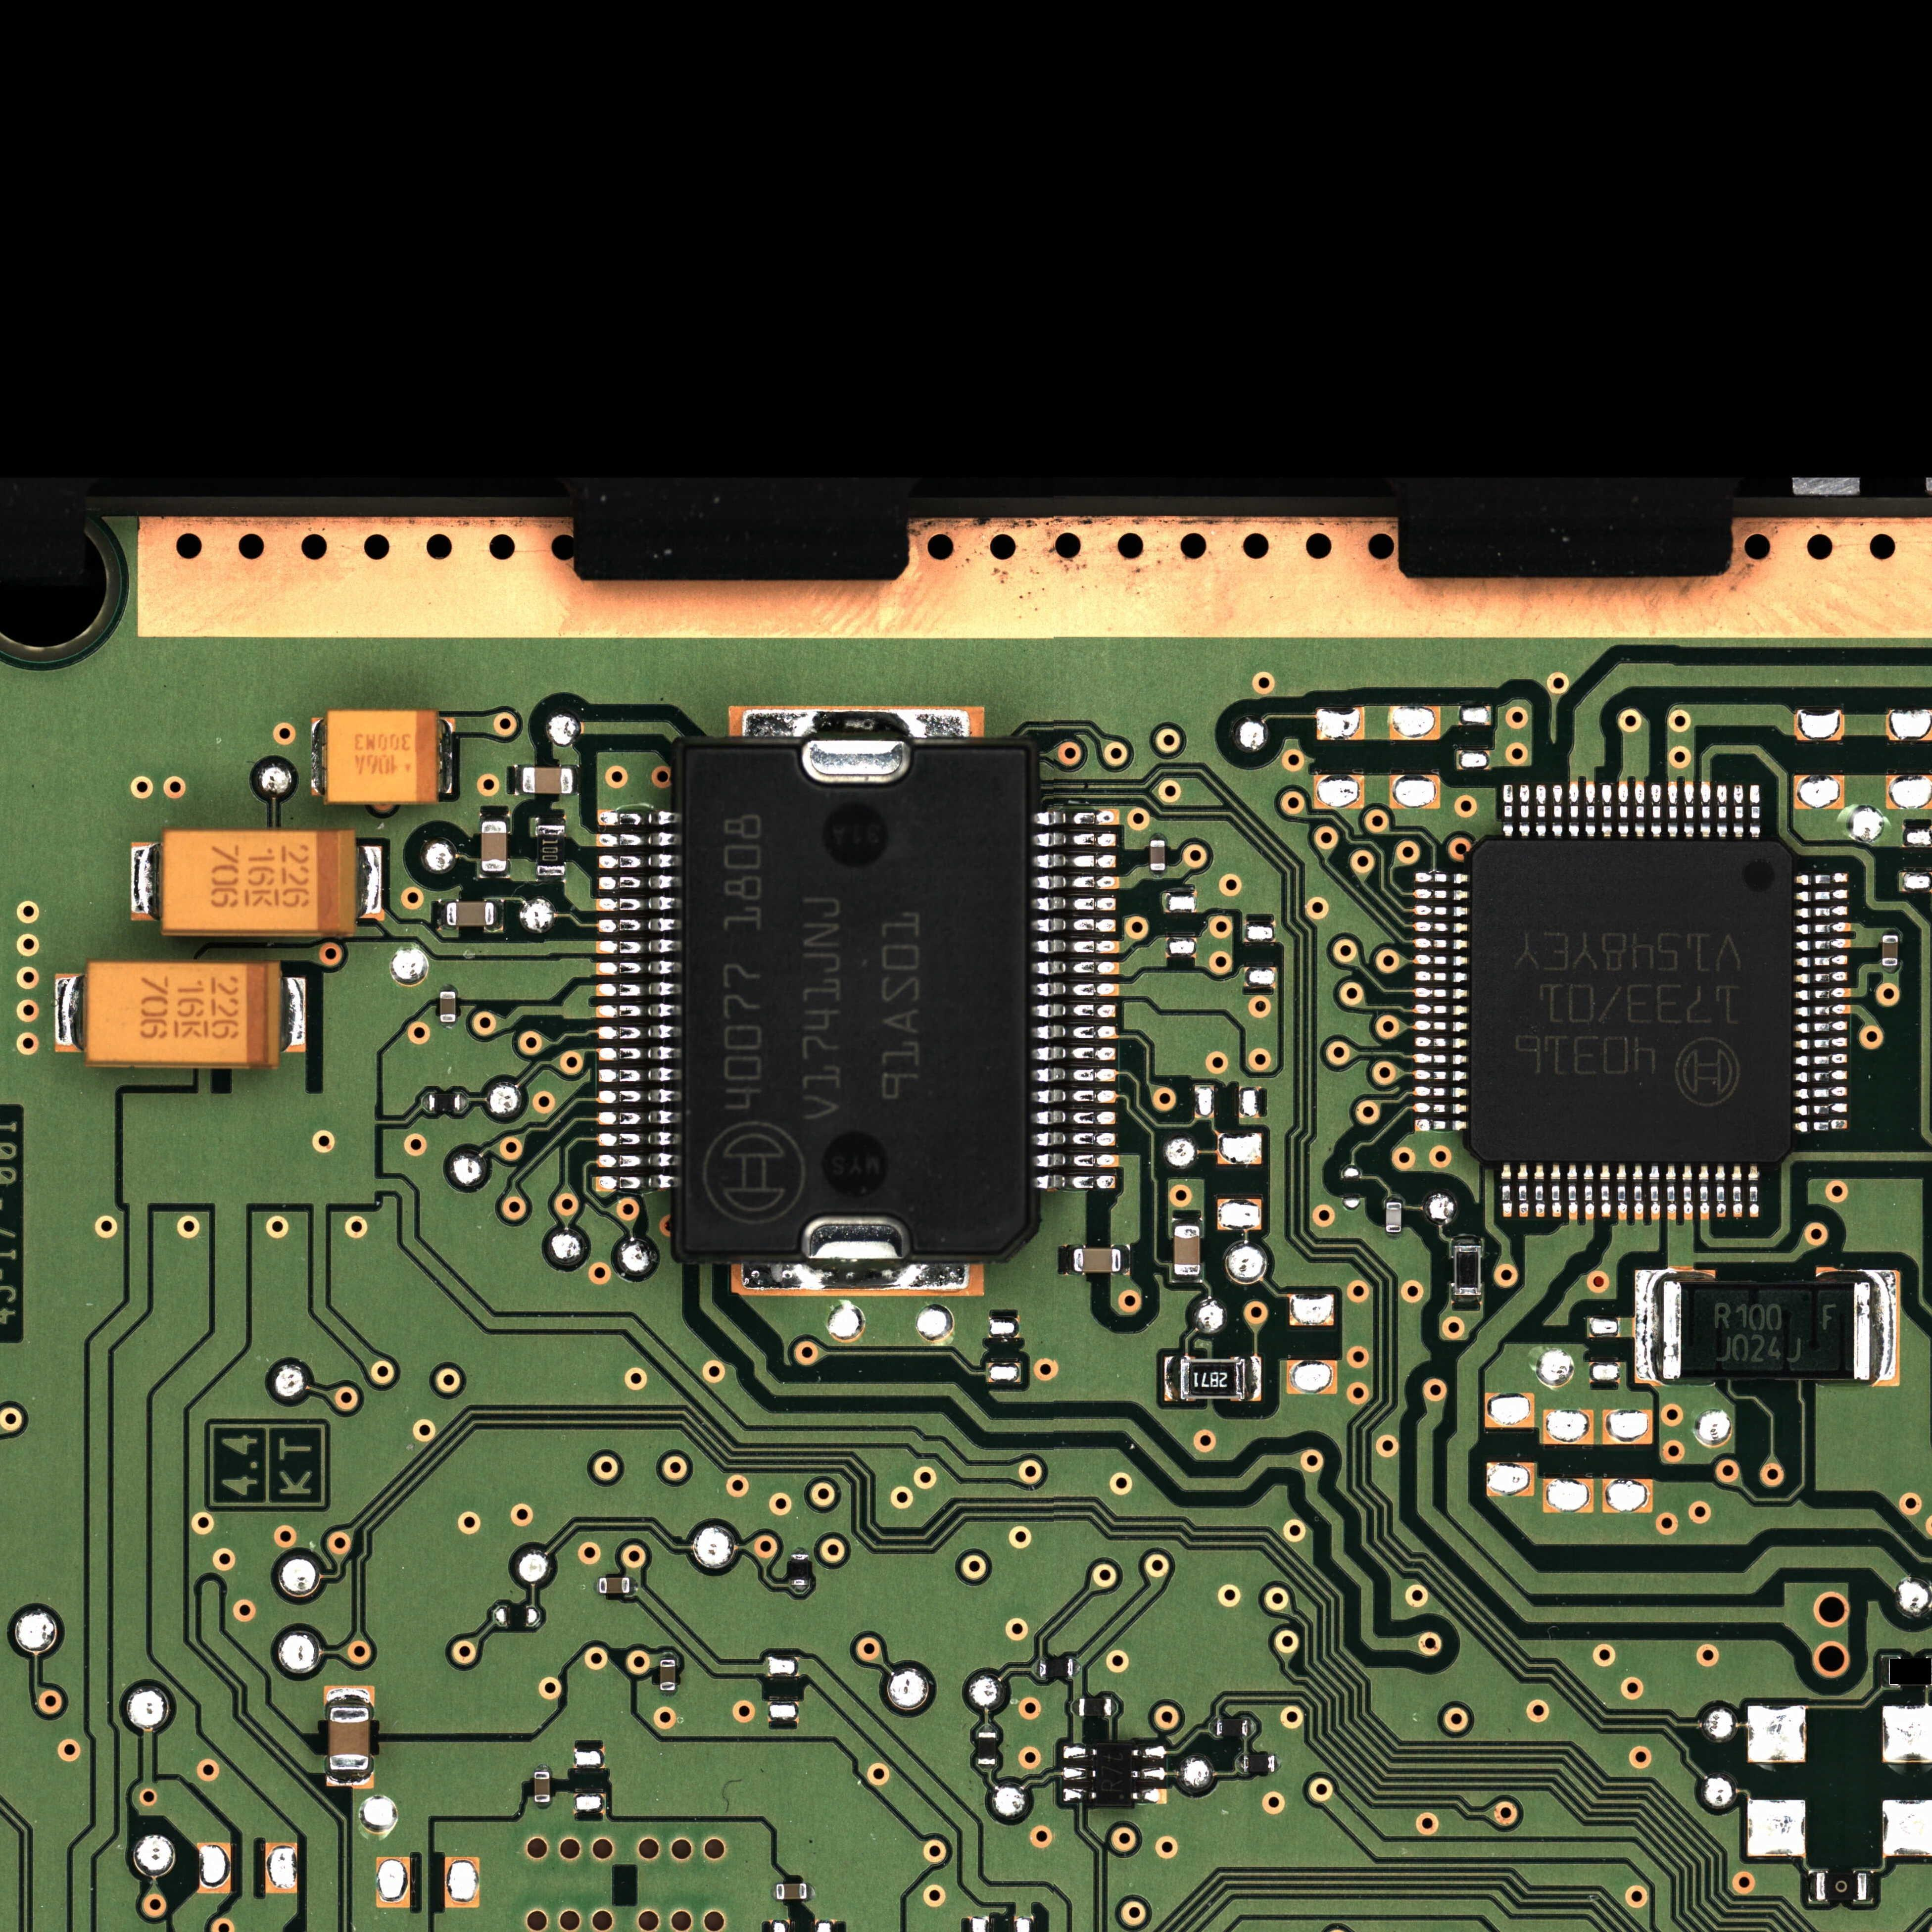Package: (683, 746, 1026, 1252), (1471, 839, 1791, 1163), (1662, 1279, 1868, 1378), (87, 961, 280, 1065), (162, 829, 357, 932), (327, 710, 437, 802), (1180, 1359, 1245, 1400), (329, 1707, 369, 1771), (1097, 1744, 1131, 1804), (1816, 1873, 1866, 1901), (537, 825, 565, 875), (522, 768, 573, 794), (1454, 1246, 1480, 1295), (1174, 1226, 1200, 1275), (481, 821, 506, 871), (447, 902, 494, 926), (1074, 1248, 1121, 1272), (977, 1732, 996, 1764), (1040, 1659, 1073, 1677), (1079, 1698, 1111, 1716), (429, 1094, 460, 1111), (1243, 1755, 1274, 1773), (791, 1554, 808, 1586), (1217, 1720, 1248, 1737), (440, 992, 456, 1022), (599, 1578, 629, 1594), (776, 1884, 807, 1899), (1883, 935, 1898, 966), (660, 1660, 676, 1690), (534, 1772, 550, 1802), (1150, 840, 1165, 870), (1386, 1203, 1401, 1232)
Solder: (739, 1261, 971, 1291), (741, 710, 970, 737), (1871, 1270, 1900, 1387), (1635, 1269, 1663, 1384), (131, 843, 162, 921), (54, 974, 86, 1053), (281, 976, 306, 1053), (358, 846, 382, 918), (1033, 809, 1118, 826), (1032, 896, 1116, 913), (596, 1174, 679, 1191), (1032, 960, 1120, 976), (596, 939, 680, 955), (596, 896, 680, 913), (597, 1067, 681, 1083), (1032, 939, 1118, 955), (1032, 874, 1118, 890), (1031, 1003, 1117, 1018), (597, 810, 680, 826), (595, 982, 681, 998), (1032, 1153, 1117, 1168), (595, 961, 680, 976), (1032, 1174, 1117, 1190), (1031, 1046, 1116, 1062), (1032, 1024, 1117, 1040), (1031, 1067, 1116, 1083), (1032, 853, 1117, 869), (1032, 1088, 1116, 1104), (1031, 1110, 1116, 1126), (596, 918, 680, 933), (596, 1153, 680, 1169), (597, 1024, 681, 1040), (1032, 982, 1118, 997), (597, 1110, 680, 1126), (598, 854, 680, 869), (597, 832, 679, 848), (596, 1003, 681, 1018), (1032, 918, 1117, 933), (597, 1089, 681, 1104), (597, 1046, 681, 1062), (598, 875, 681, 890), (1033, 1131, 1115, 1147), (1033, 832, 1115, 847), (598, 1132, 679, 1147), (323, 1685, 375, 1707), (311, 718, 326, 795), (438, 718, 453, 794), (326, 1771, 375, 1789), (1245, 1356, 1261, 1401), (1164, 1356, 1180, 1401), (1794, 1004, 1851, 1016), (1794, 988, 1851, 1000), (1415, 1119, 1467, 1132), (1413, 954, 1469, 966), (1413, 888, 1469, 900), (1700, 781, 1711, 839), (1413, 938, 1469, 950), (1414, 1004, 1469, 1015), (1414, 1020, 1469, 1032), (1794, 922, 1851, 934), (1414, 1086, 1468, 1098), (1794, 1119, 1848, 1131), (1413, 905, 1469, 917), (1794, 939, 1850, 950), (1414, 1103, 1468, 1114), (1794, 873, 1848, 885), (1794, 1070, 1847, 1082), (1794, 1087, 1848, 1099), (1794, 1103, 1848, 1115), (1794, 1021, 1847, 1033), (1413, 921, 1469, 933), (1684, 781, 1694, 839), (1414, 987, 1469, 999), (1793, 972, 1848, 983), (1414, 971, 1469, 982), (1413, 1053, 1468, 1064), (1667, 782, 1678, 839), (1635, 782, 1645, 839), (1618, 782, 1629, 839), (1794, 956, 1848, 967), (1682, 1163, 1693, 1220), (1585, 782, 1596, 839), (1666, 1164, 1677, 1220), (1649, 1164, 1660, 1220), (1633, 1164, 1643, 1220), (1616, 1163, 1627, 1220), (1414, 1069, 1468, 1081), (1794, 890, 1848, 901), (1794, 906, 1848, 918), (1502, 784, 1514, 838), (1717, 783, 1728, 839), (1651, 783, 1662, 839), (1568, 782, 1579, 838), (1699, 1163, 1710, 1219), (1584, 1163, 1594, 1219), (1567, 1163, 1578, 1219), (1415, 1037, 1468, 1048), (1794, 1054, 1847, 1065), (1601, 783, 1612, 839), (1550, 1163, 1561, 1218), (1794, 1038, 1847, 1049), (1414, 872, 1469, 883), (1733, 784, 1744, 839), (1715, 1163, 1726, 1218), (1600, 1163, 1611, 1218), (1534, 1163, 1545, 1218), (1749, 785, 1760, 839), (1552, 784, 1563, 838), (1519, 784, 1530, 838), (1732, 1164, 1742, 1218), (1748, 1164, 1759, 1218), (1518, 1163, 1529, 1217), (1132, 1788, 1167, 1804), (1536, 785, 1546, 838), (1501, 1163, 1512, 1217), (1063, 1788, 1097, 1802), (1063, 1745, 1097, 1759), (1131, 1746, 1166, 1759), (1131, 1767, 1165, 1780), (1063, 1767, 1096, 1780), (1879, 1656, 1889, 1689), (494, 899, 504, 931), (1171, 1275, 1203, 1284), (535, 816, 566, 825), (1121, 1245, 1130, 1274), (1451, 1237, 1483, 1245), (480, 813, 510, 821), (438, 900, 446, 929), (1451, 1296, 1483, 1304), (514, 765, 522, 795), (1172, 1217, 1202, 1225), (1065, 1245, 1073, 1275), (479, 871, 510, 879), (1809, 1871, 1816, 1902), (1866, 1872, 1874, 1902), (573, 765, 580, 795), (536, 875, 566, 882), (629, 1577, 638, 1594), (807, 1883, 815, 1900), (1071, 1698, 1079, 1716), (1275, 1755, 1283, 1773), (1882, 966, 1899, 974), (791, 1586, 809, 1593), (791, 1547, 809, 1554), (1073, 1659, 1080, 1677), (769, 1884, 776, 1900), (1150, 832, 1166, 840), (439, 984, 457, 991), (978, 1764, 996, 1771), (1111, 1698, 1118, 1716), (422, 1094, 429, 1111), (460, 1094, 468, 1111), (534, 1764, 551, 1772), (1385, 1233, 1402, 1240), (534, 1802, 551, 1810), (1236, 1755, 1244, 1772), (1248, 1720, 1255, 1736), (1883, 928, 1899, 935), (978, 1725, 996, 1732), (592, 1578, 599, 1594), (1386, 1195, 1402, 1202), (1150, 870, 1165, 878), (660, 1652, 676, 1659), (660, 1690, 676, 1697), (1209, 1719, 1216, 1736), (440, 1022, 456, 1029), (1034, 1661, 1040, 1677)
